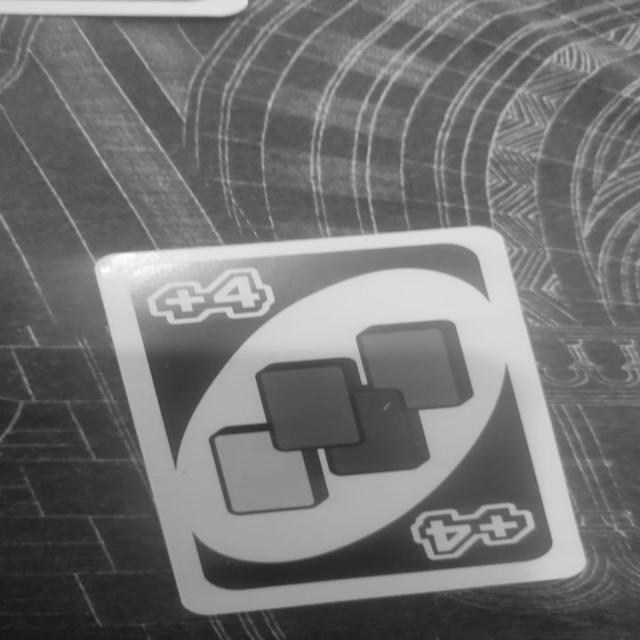card_4-: (92, 224, 588, 616)
